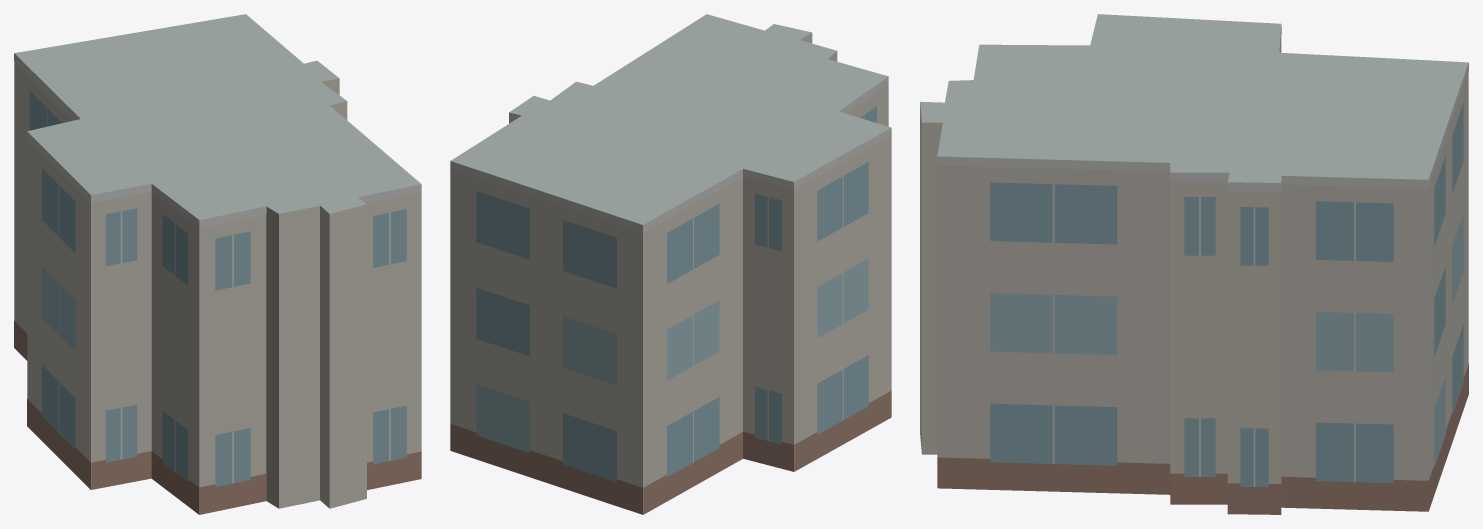
File: survey-upis-32926344.glb
3 renders of one model, left to right at view 1: azimuth 30°, elevation 25°; view 2: azimuth 150°, elevation 25°; view 3: azimuth 270°, elevation 25°, orthographic. The views are drawn at different scales.
Visible parts, largest first — view 1: survey-upis-32926344.tmp; view 2: survey-upis-32926344.tmp; view 3: survey-upis-32926344.tmp.
Boxes of the visible parts, bbox=[...] form: survey-upis-32926344.tmp: bbox=[14, 14, 421, 514]; survey-upis-32926344.tmp: bbox=[450, 14, 891, 514]; survey-upis-32926344.tmp: bbox=[920, 14, 1468, 514].
Size of the model in its own units: 10 by 9.15 by 13.72.
